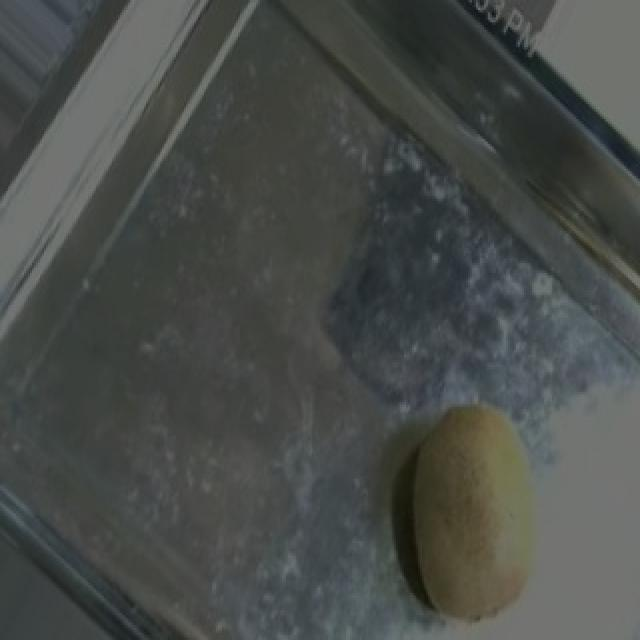Fruit: (368, 384, 572, 640)
